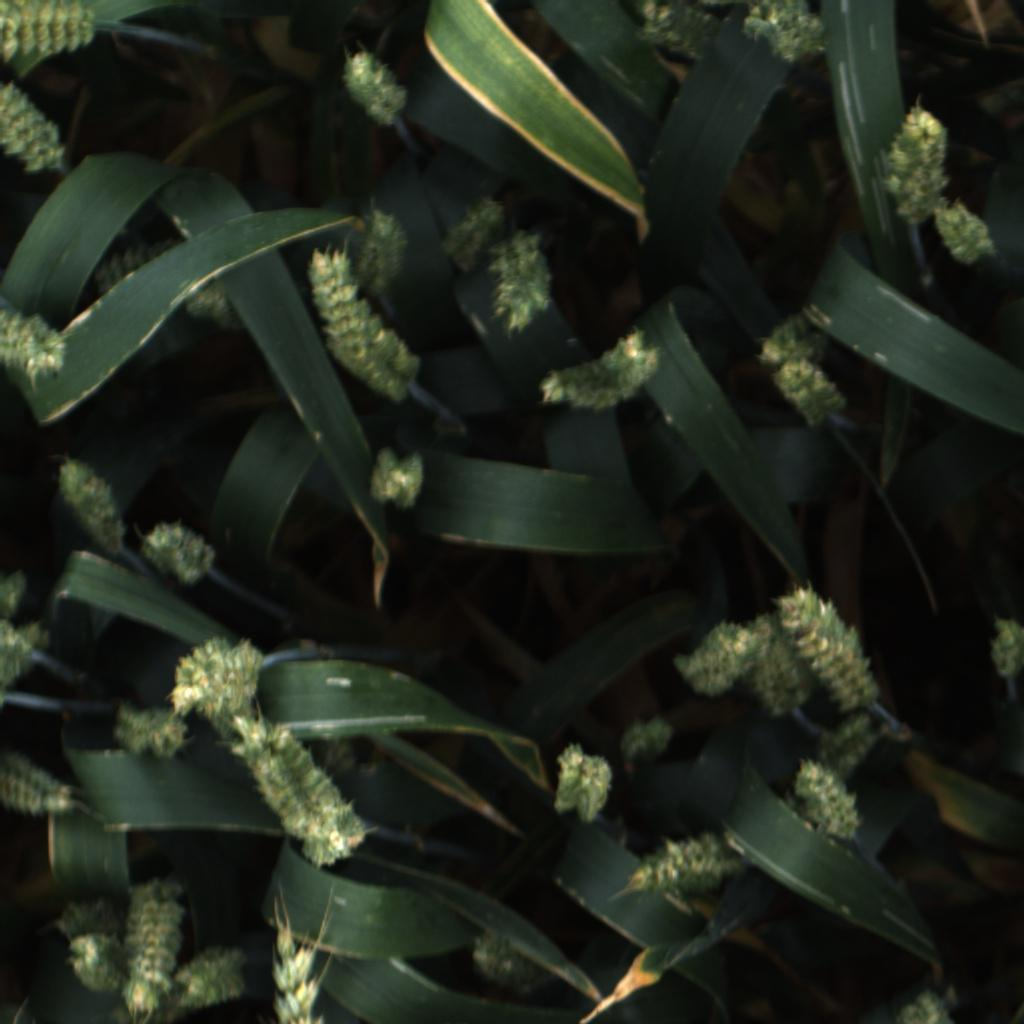0-0: (223, 715, 370, 869), (297, 239, 427, 403), (774, 581, 886, 714), (535, 332, 665, 416), (123, 881, 194, 1021), (624, 828, 751, 904), (170, 632, 274, 716), (53, 448, 130, 560), (881, 104, 950, 223), (465, 912, 552, 1003), (82, 229, 191, 301), (786, 757, 868, 846), (0, 82, 75, 177), (536, 739, 616, 827), (769, 356, 857, 435), (271, 915, 333, 1024), (746, 609, 806, 720), (676, 618, 761, 696), (130, 514, 221, 586), (493, 231, 556, 334), (340, 46, 419, 128), (1, 0, 100, 65), (0, 297, 75, 382), (745, 304, 832, 376), (176, 937, 254, 1013), (635, 0, 725, 65), (740, 1, 828, 65), (112, 694, 191, 764), (1, 750, 76, 819), (821, 707, 885, 786), (357, 202, 415, 288), (361, 445, 431, 515), (443, 193, 506, 270), (936, 196, 996, 264), (64, 929, 128, 992), (0, 619, 52, 694), (616, 712, 682, 771), (178, 276, 246, 330), (978, 607, 1024, 681), (891, 990, 963, 1024), (0, 569, 34, 620)
